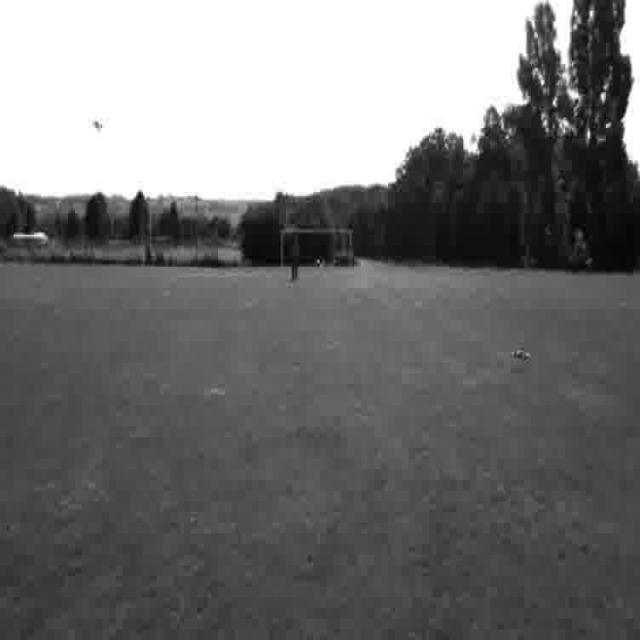drones: (506, 337, 534, 370)
